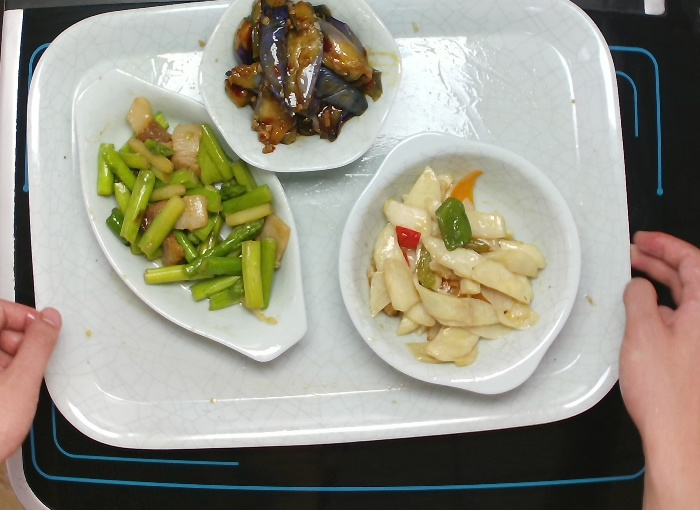JYsf-Shuang_Er_Wan: (338, 127, 586, 402)
JYsf-Yu_Pan: (68, 63, 311, 371)
WCQzf-Hua_Duo_Wan: (195, 1, 399, 176)
